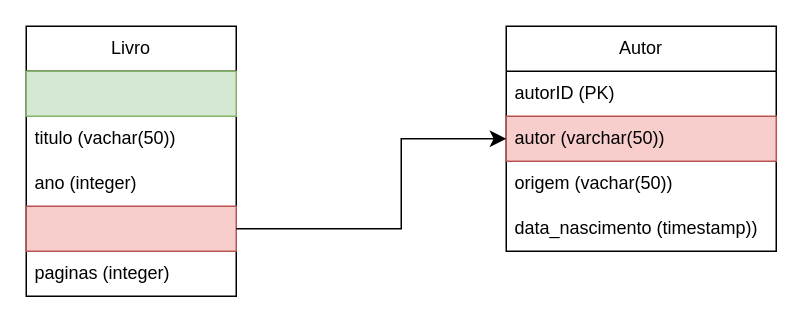
This 803x323 diagram has some shape labels left out. Each missing label, with the centre of its shape:
autor (vachar(50)): pixel 130 228
livroID (PK): pixel 130 93
